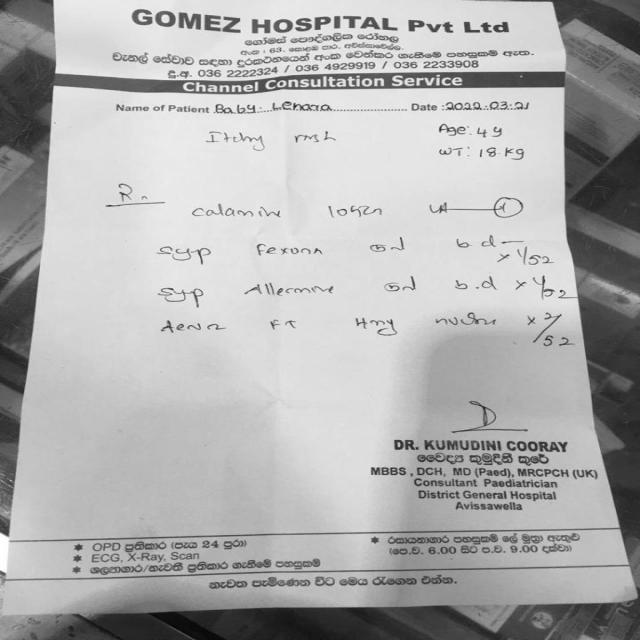Prescription: (249, 225, 560, 270), (245, 268, 575, 310), (350, 305, 580, 349), (188, 193, 452, 225)
